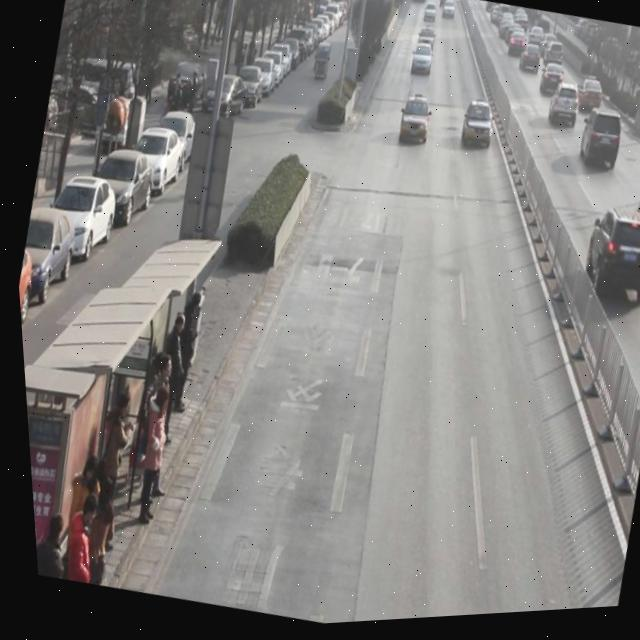car: (571, 209, 640, 317), (570, 109, 626, 181), (392, 93, 434, 152), (454, 103, 497, 160), (541, 85, 583, 138), (571, 78, 606, 125), (534, 64, 567, 106), (623, 187, 640, 265), (514, 46, 543, 83), (407, 46, 436, 83), (505, 35, 528, 64), (542, 47, 565, 71), (414, 27, 436, 51), (420, 4, 438, 28), (440, 3, 457, 27), (637, 86, 640, 123)
